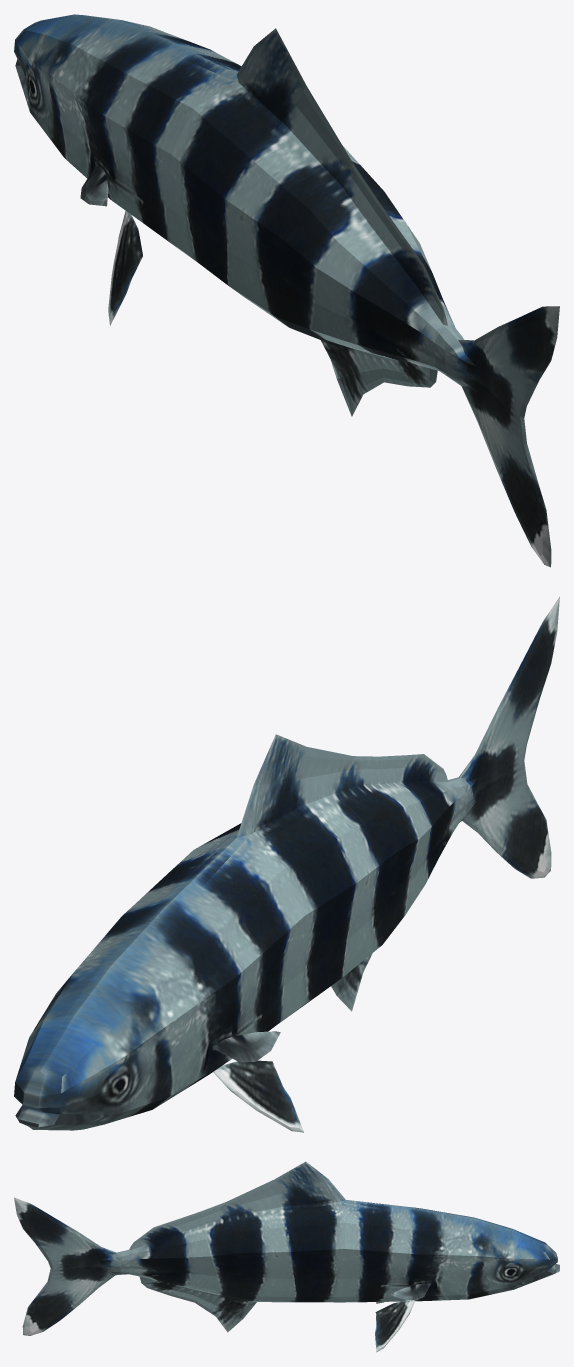
Rendered from naucrates-ductor.glb.
3 views of the same model, one above another, from view 1: azimuth 30°, elevation 25°; view 2: azimuth 150°, elevation 25°; view 3: azimuth 270°, elevation 25° (orthographic). The views are drawn at different scales.
Visible parts, largest first — view 1: naucrates ductor, pelvic.l, pectoral.l; view 2: naucrates ductor, pelvic.l, pectoral.l; view 3: naucrates ductor, pelvic.r, pectoral.r.
Boxes of the visible parts, x1,y1,x2,y2 form: naucrates ductor: (14,14,559,567); pelvic.l: (108,211,142,325); pectoral.l: (80,164,108,206); naucrates ductor: (14,597,559,1130); pelvic.l: (213,1060,303,1132); pectoral.l: (214,1031,280,1062); naucrates ductor: (14,1161,559,1335); pelvic.r: (375,1300,414,1352); pectoral.r: (390,1283,430,1300).
Size of the model in its own units: 1.55 by 2.6 by 7.37.
1 material, 1 textured.
